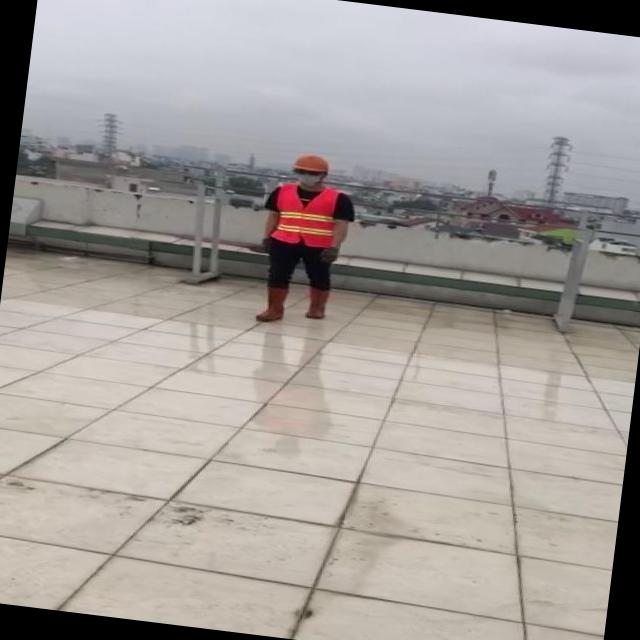boots: (250, 284, 290, 325), (303, 285, 333, 317)
gloves: (316, 246, 337, 264), (259, 233, 276, 250)
helmet: (290, 150, 332, 176)
vest: (268, 182, 345, 250)
